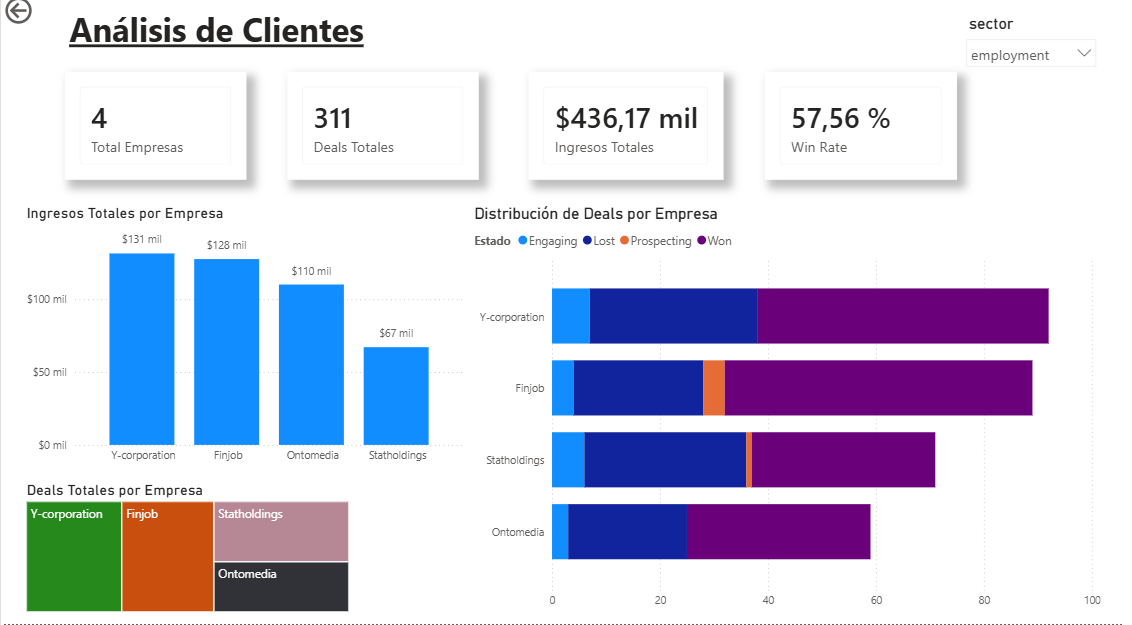

What the dashboard file says about the page in this screenshot:
{"tool":"powerbi","page":{"name":"Página 3","canvas":[1280,720],"ordinal":2},"visuals":[{"type":"textbox","box":[72.7,11,377.4,78.2],"z":0},{"type":"cardVisual","fields":{"Data":["CountNonNull(accounts.account)"]},"box":[72.7,89.2,207.2,123.5],"z":1000},{"type":"treemap","title":"Deals Totales por Empresa","fields":{"Values":["accounts.Deals_Totales"],"Group":["accounts.account"]},"box":[24.7,555.7,377.4,155.1],"z":2000},{"type":"slicer","fields":{"Values":["accounts.sector"]},"box":[1090.9,20.6,168.8,68.6],"z":3000},{"type":"actionButton","box":[0,0,100,40],"z":4000},{"type":"lineStackedColumnComboChart","title":"Ingresos Totales por Empresa","fields":{"Category":["accounts.account"],"Y":["accounts.Ingresos_Totales"]},"box":[24.7,241.5,510.5,304.6],"z":5000},{"type":"cardVisual","fields":{"Data":["accounts.Deals_Totales"]},"box":[326.6,89.2,218.2,123.5],"z":6000},{"type":"cardVisual","fields":{"Data":["Sum(sales_pipeline.close_value)"]},"box":[601,89.2,222.3,123.5],"z":7000},{"type":"barChart","title":"Distribución de Deals por Empresa","fields":{"Category":["accounts.account"],"Y":["accounts.Deals_Totales"],"Series":["sales_pipeline.deal_stage"]},"box":[535.2,241.5,724.5,469.3],"z":8000},{"type":"cardVisual","fields":{"Data":["accounts.Porcentaje_Ganados"]},"box":[871.4,89.2,219.6,123.5],"z":9000}]}

Visuals, with their boxes in screenshot pixels (x1, y1, x2, y2), scaled from the page's 1280x720 canvas onto the 1132x625 screenshot:
textbox: (left=64, top=10, right=398, bottom=77)
cardVisual - CountNonNull(accounts.account): (left=64, top=77, right=248, bottom=185)
"Deals Totales por Empresa" treemap: (left=22, top=482, right=356, bottom=617)
slicer - accounts.sector: (left=965, top=18, right=1114, bottom=77)
actionButton: (left=0, top=0, right=88, bottom=35)
"Ingresos Totales por Empresa" lineStackedColumnComboChart: (left=22, top=210, right=473, bottom=474)
cardVisual - accounts.Deals_Totales: (left=289, top=77, right=482, bottom=185)
cardVisual - Sum(sales_pipeline.close_value): (left=532, top=77, right=728, bottom=185)
"Distribución de Deals por Empresa" barChart: (left=473, top=210, right=1114, bottom=617)
cardVisual - accounts.Porcentaje_Ganados: (left=771, top=77, right=965, bottom=185)
